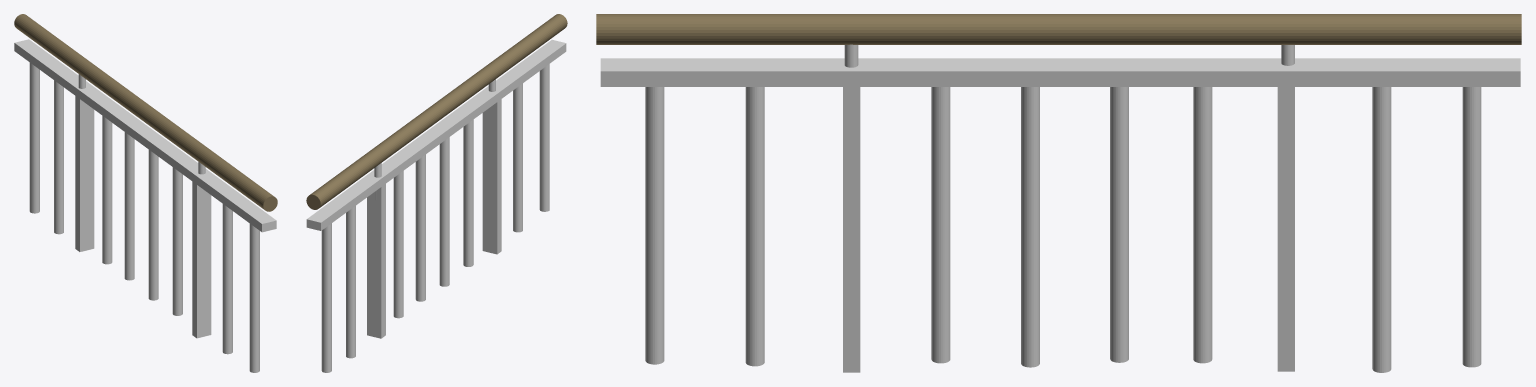
The model's file is GelænderFlad.fbx.
3 views of the same model, side by side, from view 1: azimuth 30°, elevation 25°; view 2: azimuth 150°, elevation 25°; view 3: azimuth 270°, elevation 25° (orthographic). The views are drawn at different scales.
Parts seen in each view (by area): view 1: Cube.001, Cylinder, Cube.004, Cube.005, Cylinder.020, Cylinder.016, Cylinder.014, Cylinder.013, Cylinder.015, Cylinder.018, Cylinder.017, Cylinder.019; view 2: Cube.001, Cylinder, Cube.004, Cube.005, Cylinder.016, Cylinder.020, Cylinder.013, Cylinder.018, Cylinder.015, Cylinder.017, Cylinder.019, Cylinder.014; view 3: Cylinder, Cube.001, Cylinder.019, Cylinder.020, Cylinder.014, Cylinder.013, Cylinder.018, Cylinder.015, Cylinder.016, Cube.004, Cube.005, Cylinder.017.
Boxes of the visible parts, left/top/right/bottom form: Cube.001: left=14, top=39, right=276, bottom=232; Cylinder: left=14, top=14, right=277, bottom=211; Cube.004: left=192, top=180, right=211, bottom=338; Cube.005: left=75, top=93, right=94, bottom=251; Cylinder.020: left=29, top=62, right=39, bottom=213; Cylinder.016: left=148, top=150, right=158, bottom=300; Cylinder.014: left=222, top=204, right=232, bottom=354; Cylinder.013: left=249, top=223, right=259, bottom=372; Cylinder.015: left=172, top=167, right=182, bottom=315; Cylinder.018: left=102, top=116, right=112, bottom=264; Cylinder.017: left=124, top=132, right=134, bottom=280; Cylinder.019: left=54, top=80, right=63, bottom=234; Cube.001: left=306, top=39, right=566, bottom=230; Cylinder: left=306, top=14, right=567, bottom=209; Cube.004: left=482, top=97, right=501, bottom=254; Cube.005: left=367, top=181, right=385, bottom=338; Cylinder.016: left=439, top=137, right=449, bottom=286; Cylinder.020: left=321, top=223, right=331, bottom=372; Cylinder.013: left=539, top=64, right=549, bottom=211; Cylinder.018: left=393, top=171, right=403, bottom=318; Cylinder.015: left=463, top=119, right=473, bottom=266; Cylinder.017: left=415, top=154, right=425, bottom=301; Cylinder.019: left=346, top=206, right=355, bottom=358; Cylinder.014: left=513, top=83, right=522, bottom=232; Cylinder: left=596, top=14, right=1521, bottom=44; Cube.001: left=600, top=58, right=1520, bottom=86; Cylinder.019: left=1372, top=87, right=1391, bottom=372; Cylinder.020: left=1462, top=87, right=1481, bottom=367; Cylinder.014: left=745, top=87, right=764, bottom=366; Cylinder.013: left=645, top=87, right=664, bottom=364; Cylinder.018: left=1193, top=87, right=1212, bottom=363; Cylinder.015: left=931, top=87, right=950, bottom=363; Cylinder.016: left=1021, top=87, right=1039, bottom=367; Cube.004: left=843, top=82, right=860, bottom=372; Cube.005: left=1277, top=81, right=1294, bottom=371; Cylinder.017: left=1110, top=87, right=1128, bottom=362.
Size of the model in its own units: 18.2 by 227 by 539.
